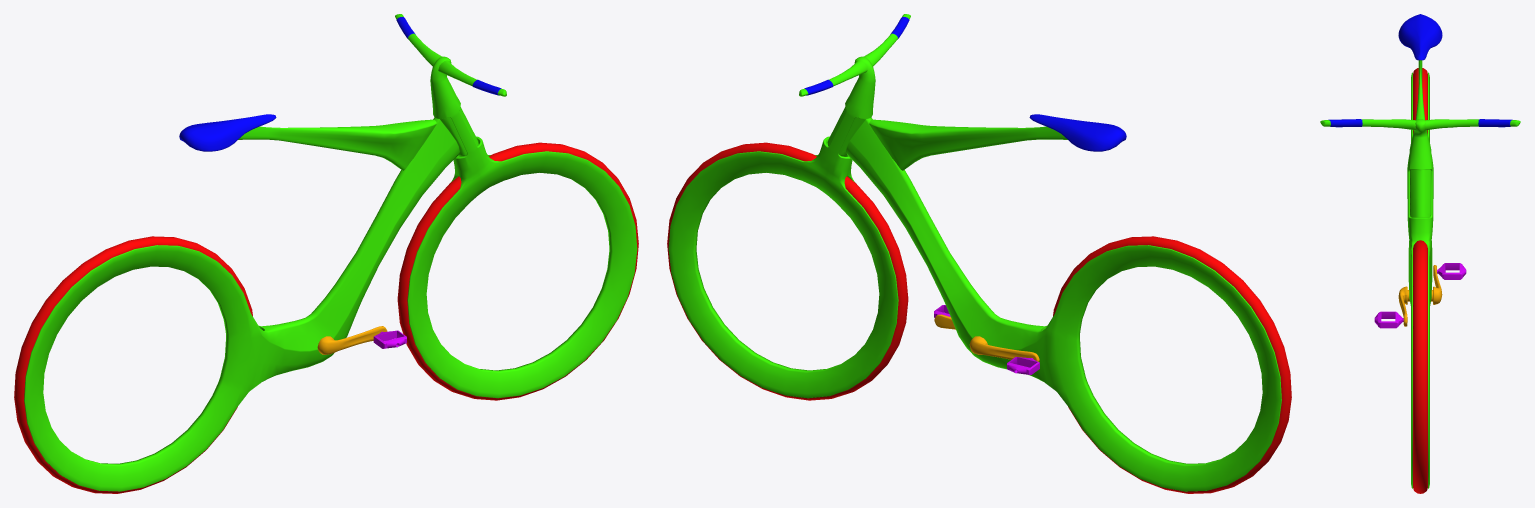
Rendered from Bike_01.FBX.
3 renders of one model, left to right at view 1: azimuth 30°, elevation 25°; view 2: azimuth 150°, elevation 25°; view 3: azimuth 270°, elevation 25°, orthographic. The views are drawn at different scales.
Visible parts, largest first — view 1: Velo, O_Pneu_Arriere, O_Pneu_Avant, O_Levier-D; view 2: Velo, O_Pneu_Arriere, O_Pneu_Avant, O_Levier-D001; view 3: Velo, O_Pneu_Avant, O_Pneu_Arriere, O_Pedale-D, O_Pedale-D001, O_Levier-D, O_Levier-D001.
Boxes of the visible parts, <box> form: Velo: <box>24,14,637,491</box>; O_Pneu_Arriere: <box>14,236,252,493</box>; O_Pneu_Avant: <box>397,142,638,400</box>; O_Levier-D: <box>317,326,387,354</box>; Velo: <box>668,14,1281,491</box>; O_Pneu_Arriere: <box>1053,236,1291,493</box>; O_Pneu_Avant: <box>667,142,908,400</box>; O_Levier-D001: <box>969,336,1039,361</box>; Velo: <box>1320,14,1520,488</box>; O_Pneu_Avant: <box>1413,240,1427,493</box>; O_Pneu_Arriere: <box>1413,68,1427,133</box>; O_Pedale-D: <box>1374,311,1403,328</box>; O_Pedale-D001: <box>1437,263,1466,279</box>; O_Levier-D: <box>1398,286,1409,326</box>; O_Levier-D001: <box>1431,265,1442,304</box>.
Size of the model in its own units: 1.53 by 0.8491 by 0.4647.
